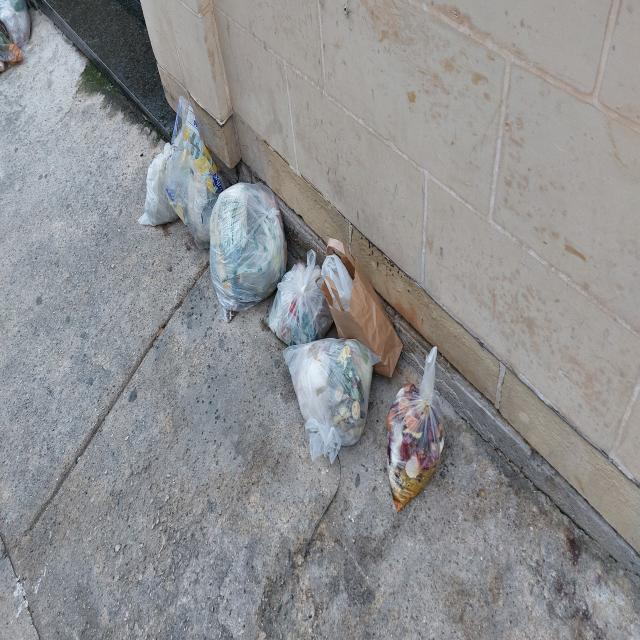Organic Waste -White Bag-: (138, 133, 227, 250), (282, 349, 383, 452), (210, 182, 289, 313), (385, 386, 449, 517), (270, 262, 332, 349)
